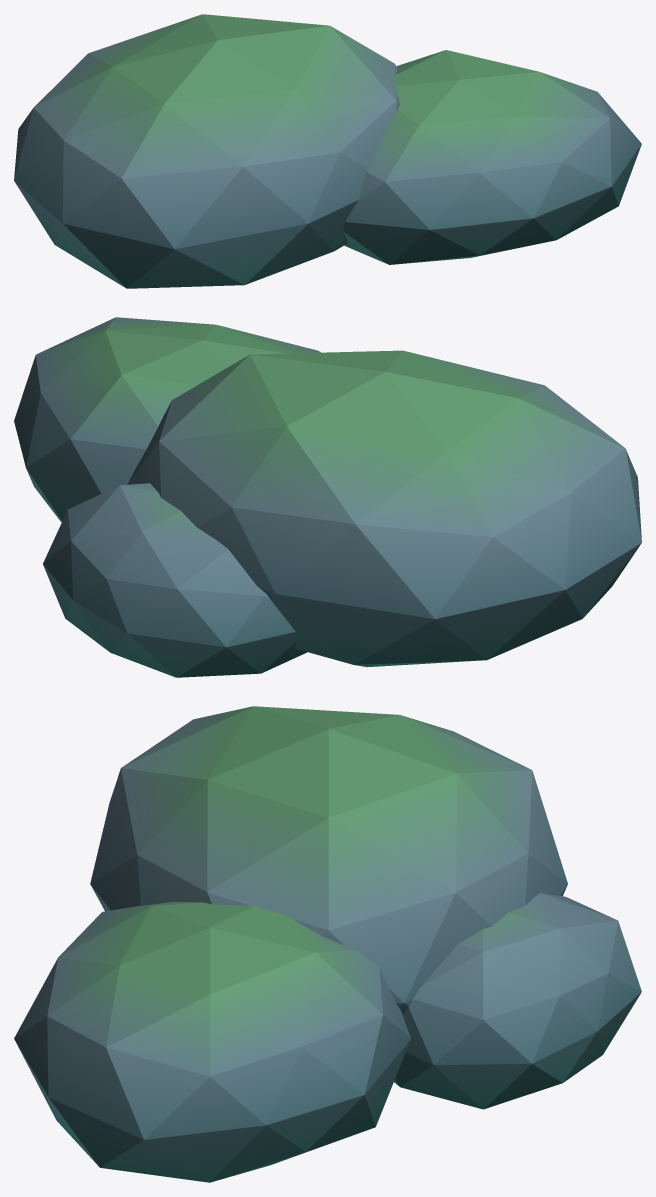
File: rock_c.glb
3 views of the same model, one above another, from view 1: azimuth 30°, elevation 25°; view 2: azimuth 150°, elevation 25°; view 3: azimuth 270°, elevation 25° (orthographic). The views are drawn at different scales.
Parts seen in each view (by area): view 1: RockC; view 2: RockC; view 3: RockC.
Part boxes in pixels (<box>): RockC: <box>14,14,641,288</box>; RockC: <box>14,317,641,677</box>; RockC: <box>14,706,641,1182</box>.
Bounding box in the file's own units: 1.59 × 0.5715 × 1.22.
